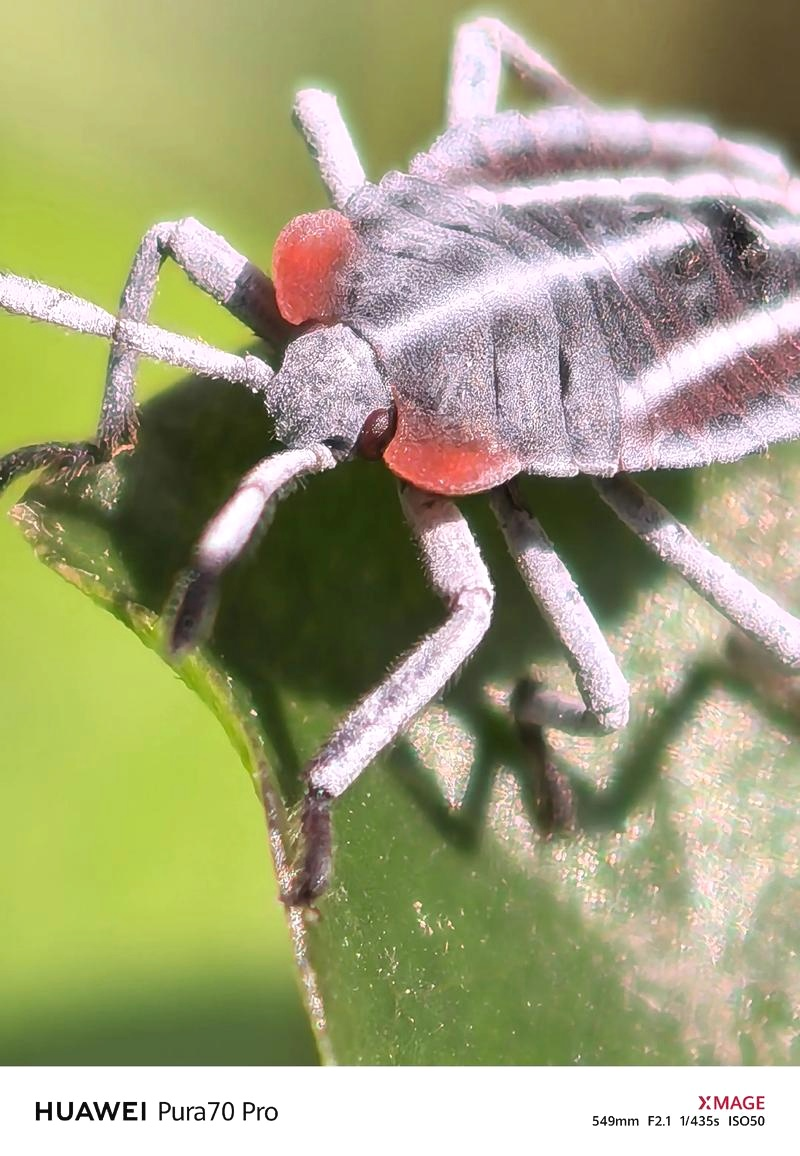Stink_Bug: (224, 82, 750, 569)
